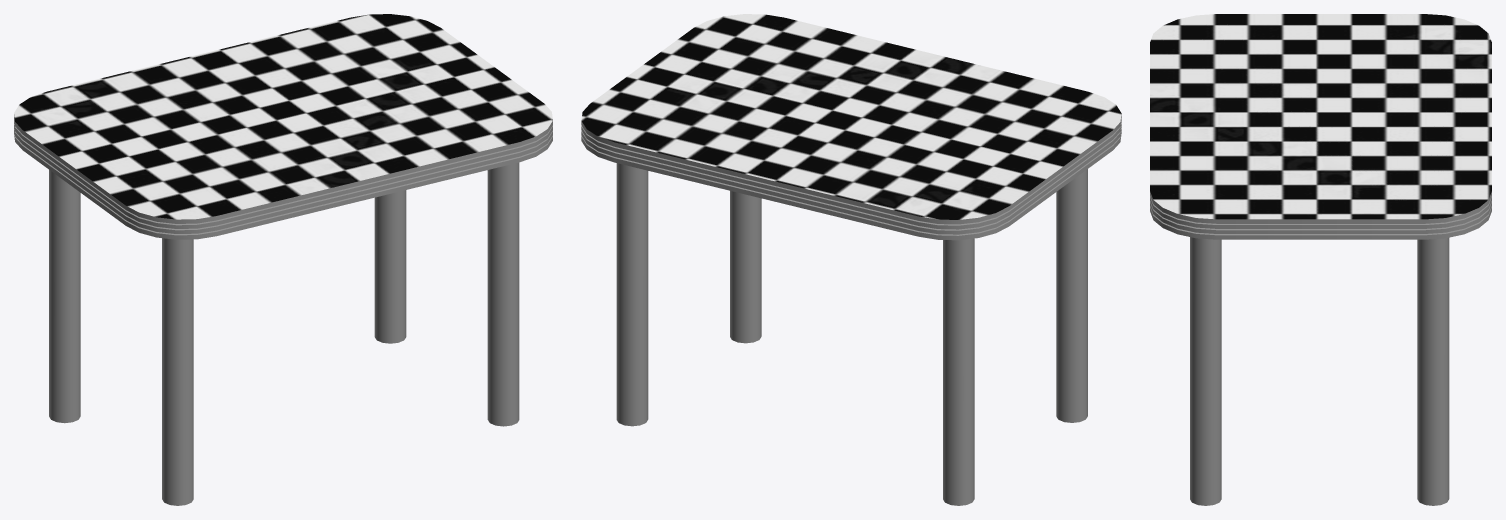
Rendered from table.fbx.
The picture shows the model from 3 angles, left to right: view 1: azimuth 30°, elevation 25°; view 2: azimuth 150°, elevation 25°; view 3: azimuth 270°, elevation 25°; orthographic projection.
Parts seen in each view (by area): view 1: table; view 2: table; view 3: table.
Part boxes in pixels (bbox=[...]): table: bbox=[14, 14, 552, 505]; table: bbox=[581, 14, 1121, 505]; table: bbox=[1150, 14, 1491, 505].
Size of the model in its own units: 689 by 473 by 484.
